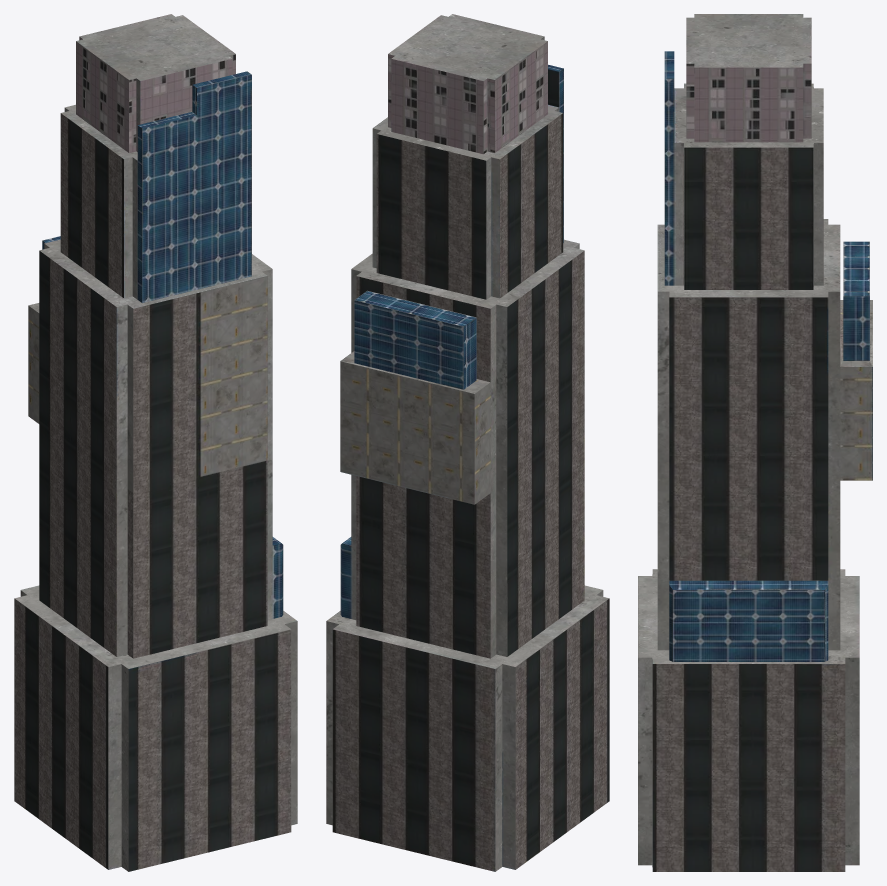
File: la-tower-c.glb
3 renders of one model, left to right at view 1: azimuth 30°, elevation 25°; view 2: azimuth 150°, elevation 25°; view 3: azimuth 270°, elevation 25°, orthographic. The views are drawn at different scales.
Visible parts, largest first — view 1: tower-c; view 2: tower-c; view 3: tower-c.
Boxes of the visible parts, bbox=[...] form: tower-c: bbox=[14, 14, 297, 871]; tower-c: bbox=[326, 14, 609, 871]; tower-c: bbox=[638, 14, 872, 871].
Bounding box in the file's own units: 60.69 × 235 × 63.64.
1 material, 1 textured.
